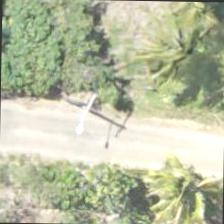Kelapa_Sawit: (144, 1, 223, 88), (137, 146, 224, 223), (162, 1, 223, 57)
